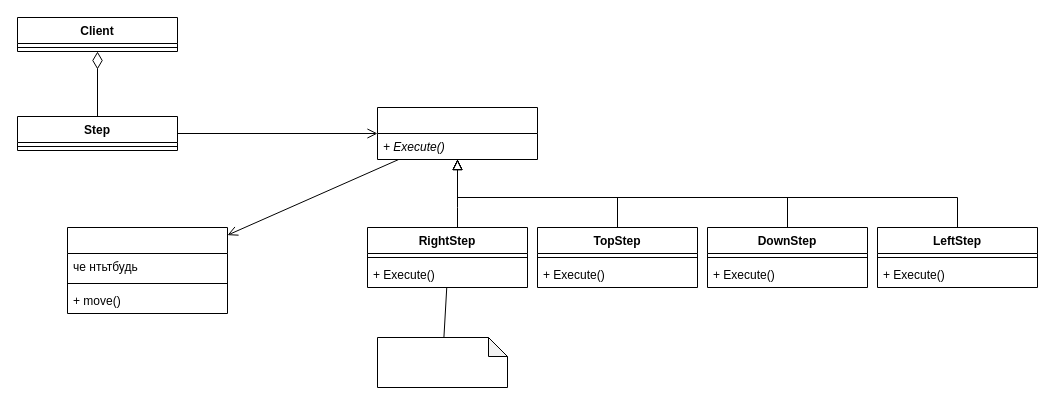
This 1055x405 diagram has some shape labels left out. Each missing label, with the box of its shape:
Command: (376, 106, 538, 160)
Execute() { player.move() }: (376, 336, 508, 388)
Player: (66, 226, 228, 314)
